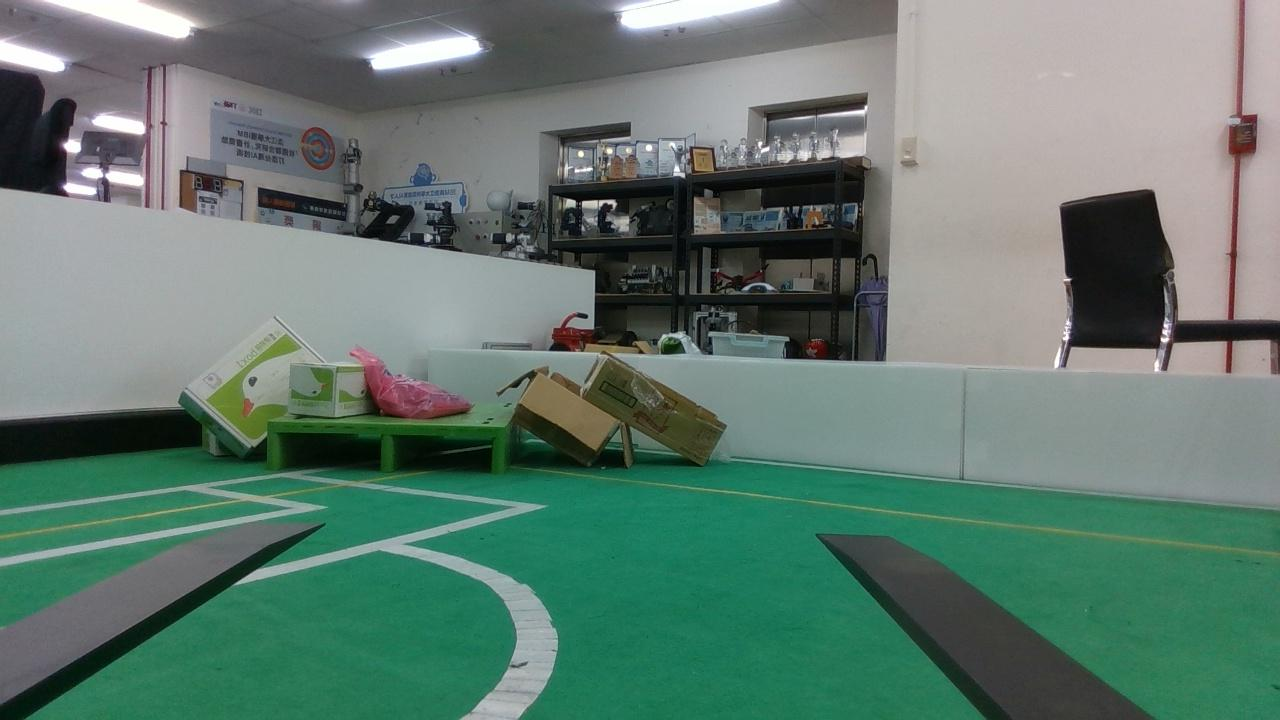Pallet: (267, 418, 508, 474)
